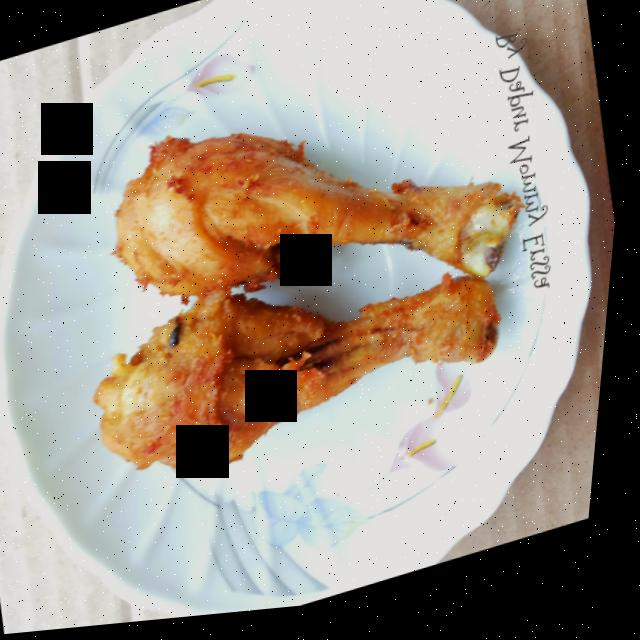Frango: (86, 43, 544, 383), (81, 217, 522, 503)
